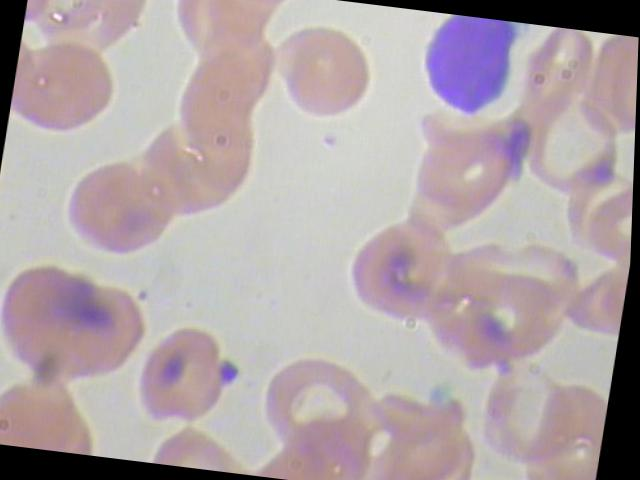Platelets: (216, 355, 255, 389)
Red Blood Cells: (421, 242, 583, 378), (0, 253, 117, 381), (117, 118, 244, 230), (58, 154, 186, 265), (126, 322, 254, 433), (333, 217, 461, 328), (260, 17, 388, 128), (7, 38, 133, 150), (507, 96, 634, 207), (404, 114, 531, 225), (465, 360, 593, 470), (259, 348, 386, 458), (40, 274, 157, 390), (508, 24, 606, 131), (163, 0, 271, 67)
White Blood Cells: (394, 10, 525, 125)
